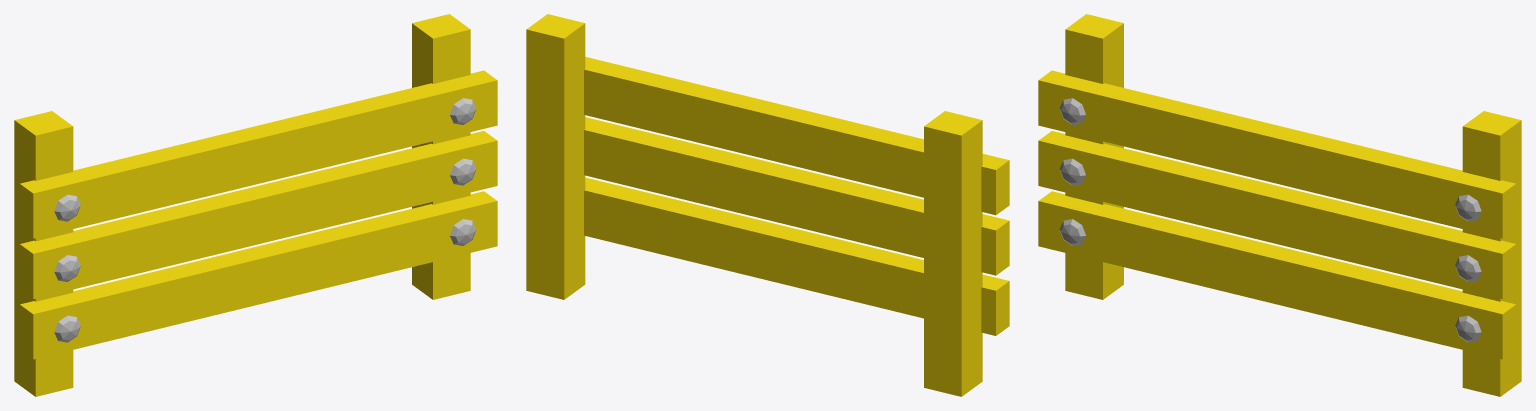
File: 3_plank_1.FBX
3 views of the same model, side by side, from view 1: azimuth 30°, elevation 25°; view 2: azimuth 150°, elevation 25°; view 3: azimuth 330°, elevation 25° (orthographic).
Visible parts, largest first — view 1: 3_plank_1; view 2: 3_plank_1; view 3: 3_plank_1.
Part boxes in pixels (left/top/right/bottom): 3_plank_1: left=14, top=14, right=497, bottom=396; 3_plank_1: left=526, top=14, right=1009, bottom=396; 3_plank_1: left=1038, top=14, right=1521, bottom=396.
Bounding box in the file's own units: 1.35 × 0.7267 × 0.1854.
Materials: 1 (1 with a texture image).
